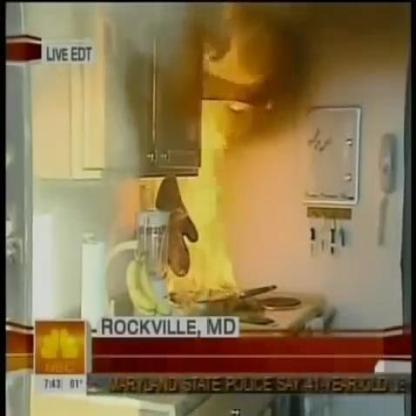fire: (150, 34, 264, 302)
